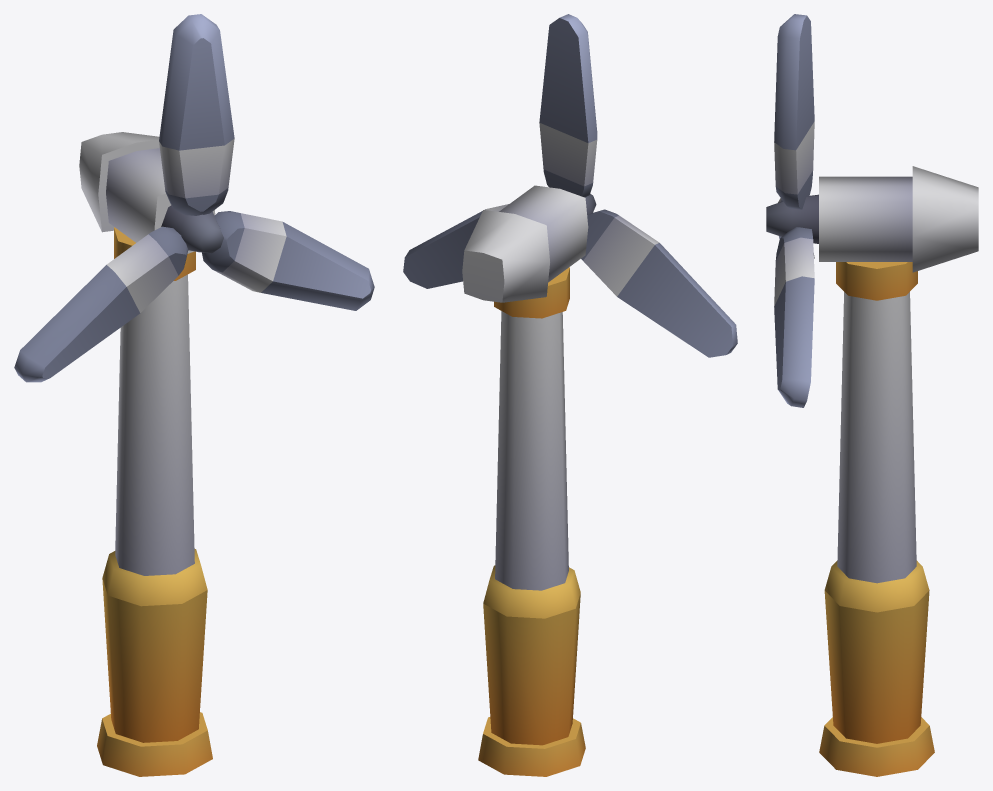
Rendered from turbina-eolica.glb.
3 views of the same model, side by side, from view 1: azimuth 30°, elevation 25°; view 2: azimuth 150°, elevation 25°; view 3: azimuth 270°, elevation 25° (orthographic). The views are drawn at different scales.
Parts seen in each view (by area): view 1: modelo, helice; view 2: modelo, helice; view 3: modelo, helice.
Part boxes in pixels (bbox=[...]): modelo: bbox=[79, 132, 223, 776]; helice: bbox=[14, 14, 374, 382]; modelo: bbox=[462, 185, 596, 776]; helice: bbox=[403, 14, 737, 357]; modelo: bbox=[766, 166, 978, 776]; helice: bbox=[774, 14, 814, 407].
Bounding box in the file's own units: 2.22 × 4.55 × 1.19.
